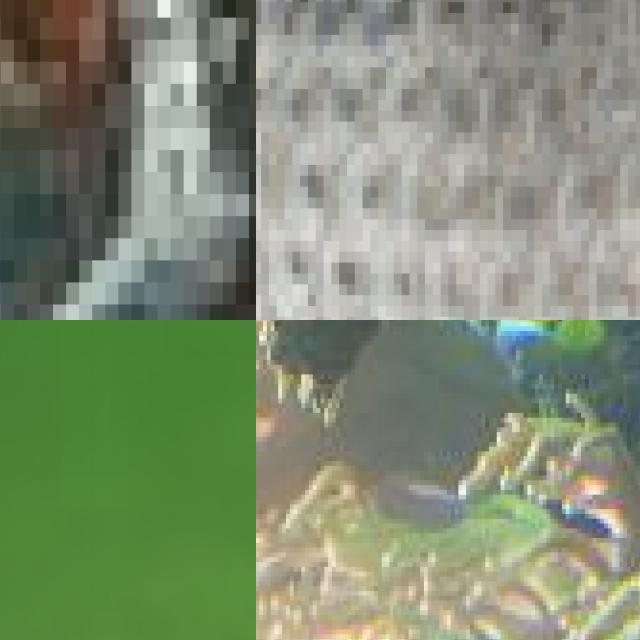fish: (256, 0, 640, 320), (0, 0, 256, 320)
